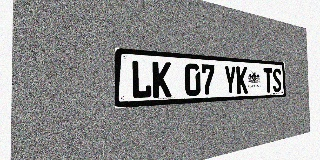0: (185, 63, 201, 96)
7: (200, 64, 215, 96)
K: (152, 61, 171, 98), (236, 66, 248, 94)
L: (131, 60, 152, 99)
S: (272, 68, 281, 92)
T: (263, 68, 273, 93)
Y: (224, 65, 236, 95)
